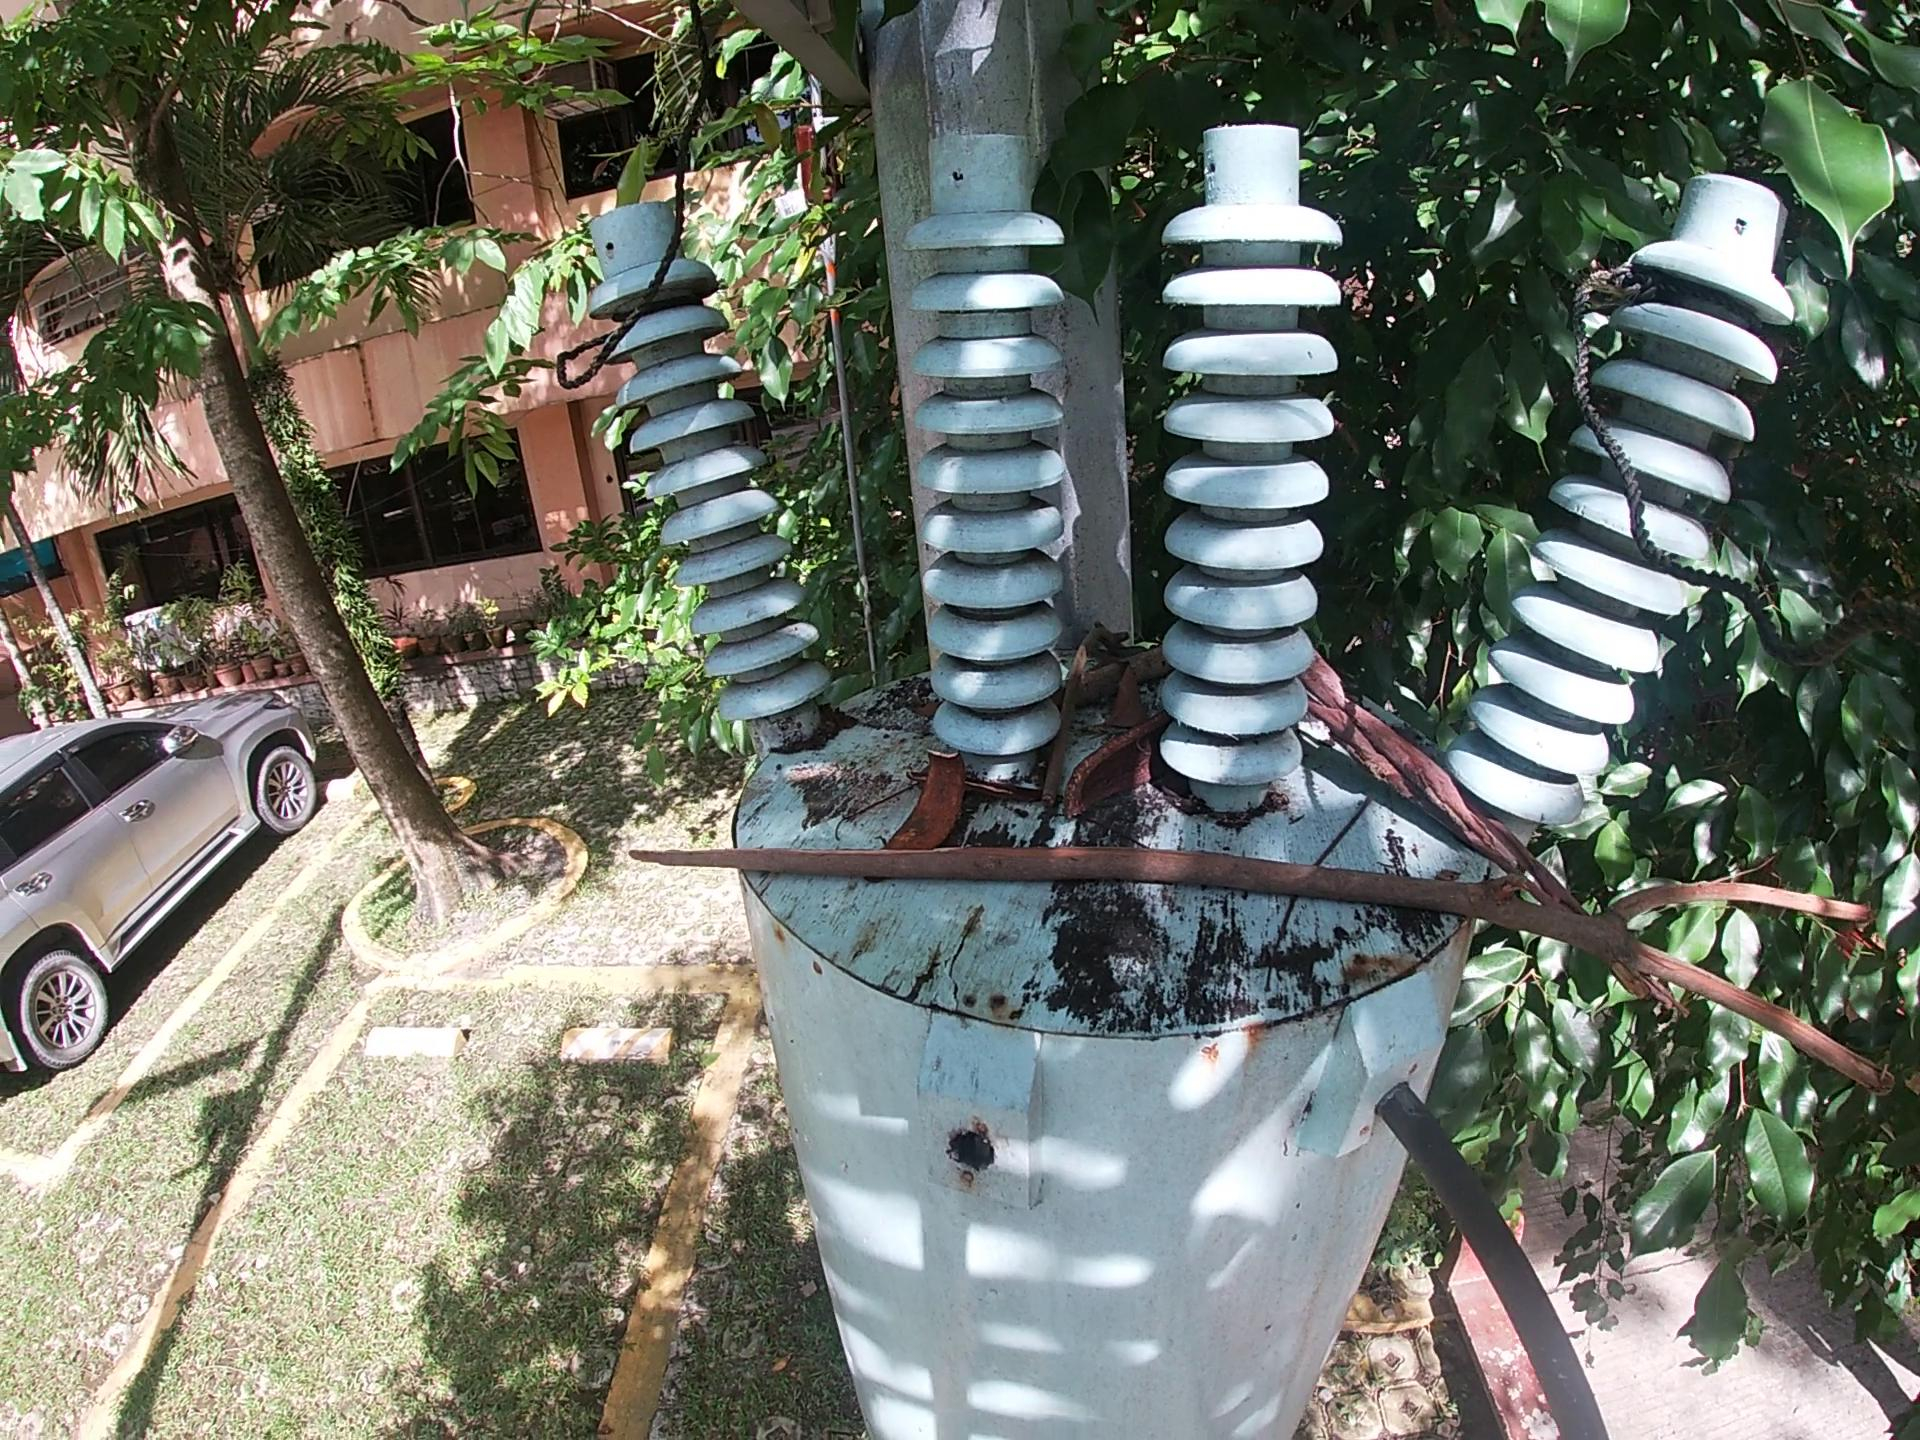leaf: (1110, 667, 1144, 735), (915, 706, 954, 722)
mahogany fruit: (881, 735, 989, 846), (1061, 734, 1163, 830)
tree branch: (630, 839, 1912, 1124), (1299, 647, 1578, 908), (1252, 790, 1376, 995), (1039, 601, 1101, 808), (1067, 655, 1172, 712), (831, 788, 897, 843), (974, 771, 1025, 806)
